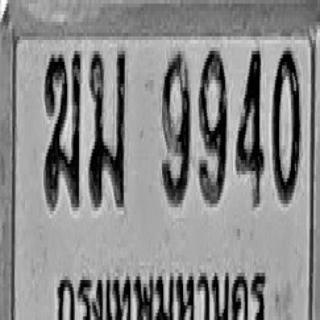A06: (44, 49, 80, 209)
A33: (88, 47, 125, 207)
N00: (271, 46, 300, 202)
N04: (236, 47, 263, 207)
N09: (198, 47, 227, 204), (161, 51, 190, 204)
P04: (51, 258, 270, 320)
